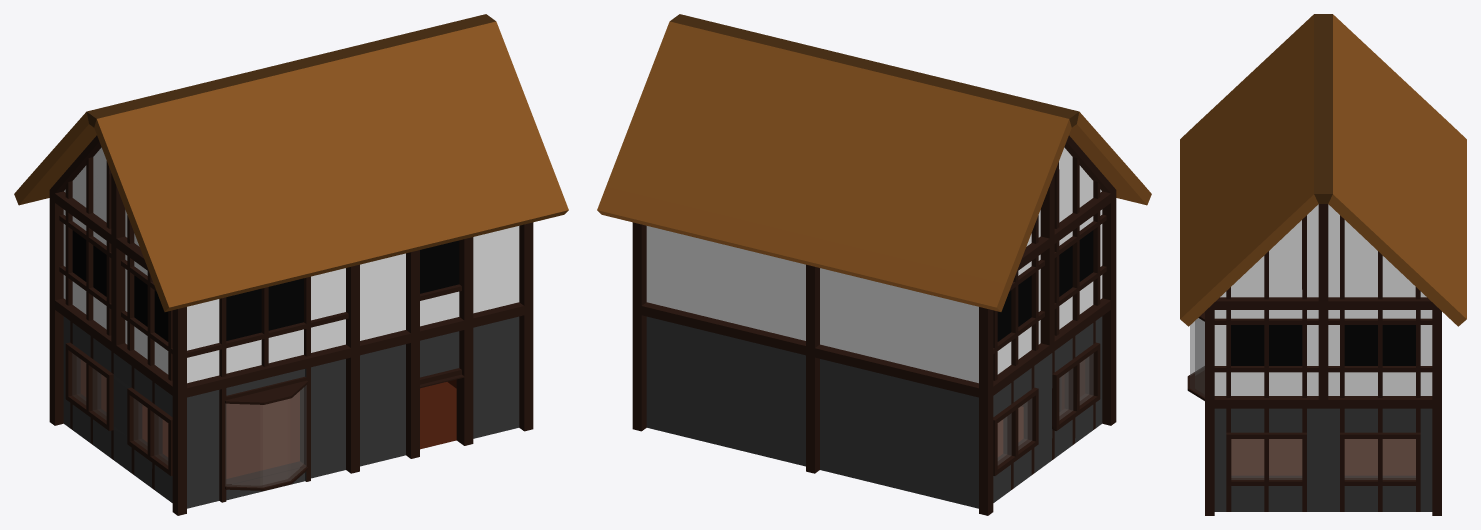
Rendered from Shop001.FBX.
3 renders of one model, left to right at view 1: azimuth 30°, elevation 25°; view 2: azimuth 150°, elevation 25°; view 3: azimuth 270°, elevation 25°, orthographic. The views are drawn at different scales.
Visible parts, largest first — view 1: ShopBuilding, FrontWidow, FrontWidowParts, Window007, Window005; view 2: ShopBuilding, Window005, Window007; view 3: ShopBuilding, Window, Window001, Window003, Window002, FrontWidow, FrontWidowParts.
Boxes of the visible parts, x1,y1,x2,y2 form: ShopBuilding: (14, 14, 568, 515); FrontWidow: (225, 385, 306, 487); FrontWidowParts: (225, 380, 307, 490); Window007: (72, 353, 86, 404); Window005: (154, 413, 168, 464); ShopBuilding: (597, 14, 1151, 515); Window005: (1079, 353, 1093, 404); Window007: (997, 413, 1011, 464); ShopBuilding: (1180, 14, 1466, 515); Window: (1269, 439, 1302, 479); Window001: (1231, 439, 1264, 479); Window003: (1382, 439, 1415, 479); Window002: (1344, 439, 1377, 479); FrontWidow: (1190, 318, 1204, 396); FrontWidowParts: (1187, 312, 1204, 400).
Bounding box in the file's own units: 180 × 155 × 121.
